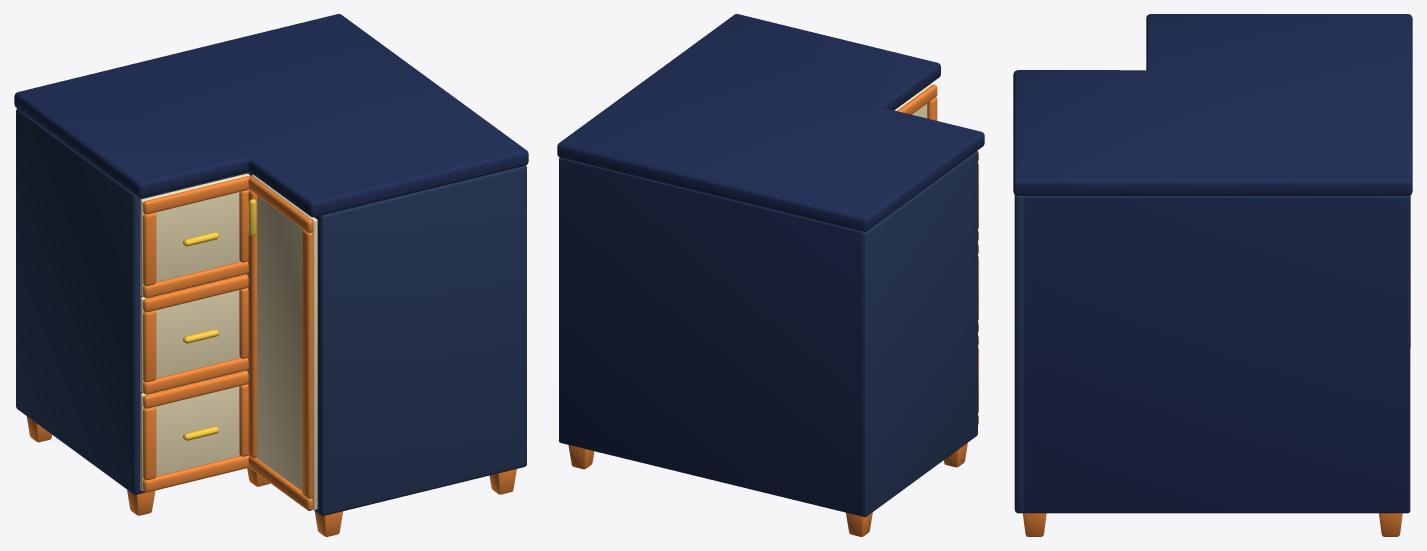
The model's file is armario_cozinha_canto_grafite_noite.glb.
3 renders of one model, left to right at view 1: azimuth 30°, elevation 25°; view 2: azimuth 150°, elevation 25°; view 3: azimuth 270°, elevation 25°, orthographic. The views are drawn at different scales.
Visible parts, largest first — view 1: armario_cozinha_canto_grafite_noite, porta_1, gaveta_1, gaveta_3, gaveta_2; view 2: armario_cozinha_canto_grafite_noite, porta_1; view 3: armario_cozinha_canto_grafite_noite.
Boxes of the visible parts, left/top/right/bottom form: armario_cozinha_canto_grafite_noite: left=14, top=14, right=528, bottom=536; porta_1: left=246, top=174, right=317, bottom=510; gaveta_1: left=140, top=173, right=249, bottom=298; gaveta_3: left=140, top=370, right=249, bottom=492; gaveta_2: left=140, top=274, right=248, bottom=394; armario_cozinha_canto_grafite_noite: left=557, top=14, right=984, bottom=536; porta_1: left=894, top=83, right=937, bottom=120; armario_cozinha_canto_grafite_noite: left=1013, top=14, right=1412, bottom=536.
Bounding box in the file's own units: 0.898 × 0.9 × 0.899.
Materials: 1 (1 with a texture image).
